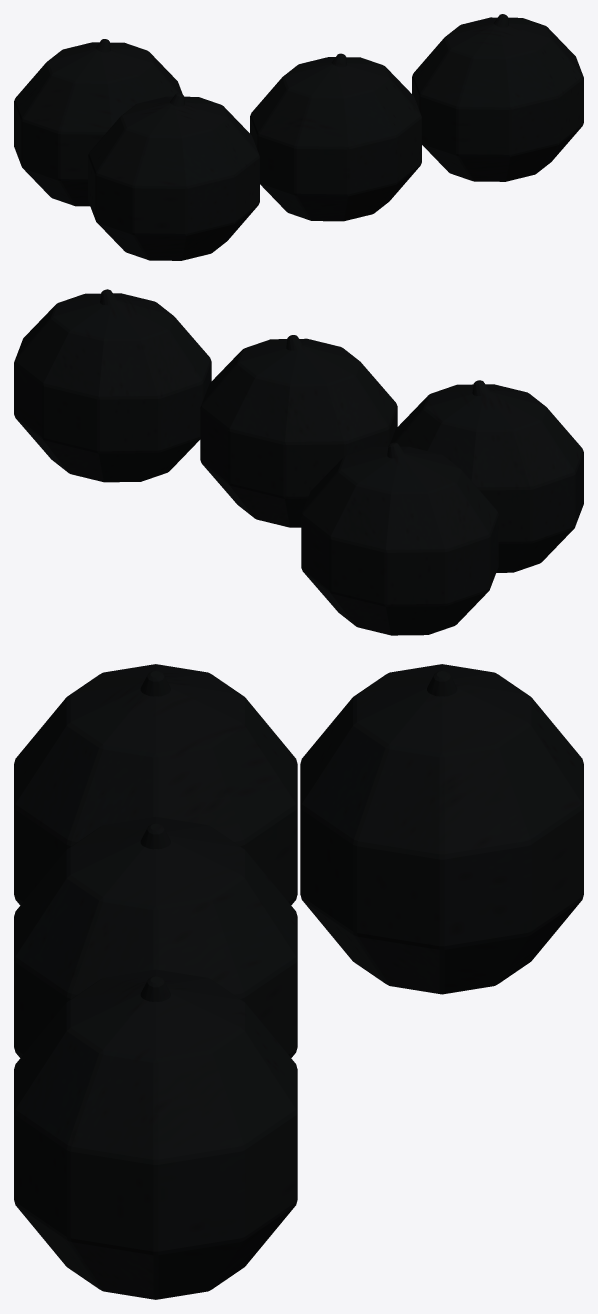
Rendered from PROP-7FB2DCCA8FE9_lod1.glb.
The picture shows the model from 3 angles, top to bottom: view 1: azimuth 30°, elevation 25°; view 2: azimuth 150°, elevation 25°; view 3: azimuth 270°, elevation 25°; orthographic projection. The views are drawn at different scales.
Visible parts, largest first — view 1: rubbish_bag.003, bag_knot.003; view 2: rubbish_bag.003, bag_knot.003; view 3: rubbish_bag.003, bag_knot.003.
Part boxes in pixels (x1,y1,x2,y2): rubbish_bag.003: (14, 17, 583, 260); bag_knot.003: (95, 14, 508, 106); rubbish_bag.003: (14, 293, 583, 635); bag_knot.003: (100, 289, 489, 458); rubbish_bag.003: (14, 664, 583, 1299); bag_knot.003: (140, 671, 457, 1001).
Size of the model in its own units: 1.57 by 0.5021 by 0.8361.
Materials: 1 (1 with a texture image).
